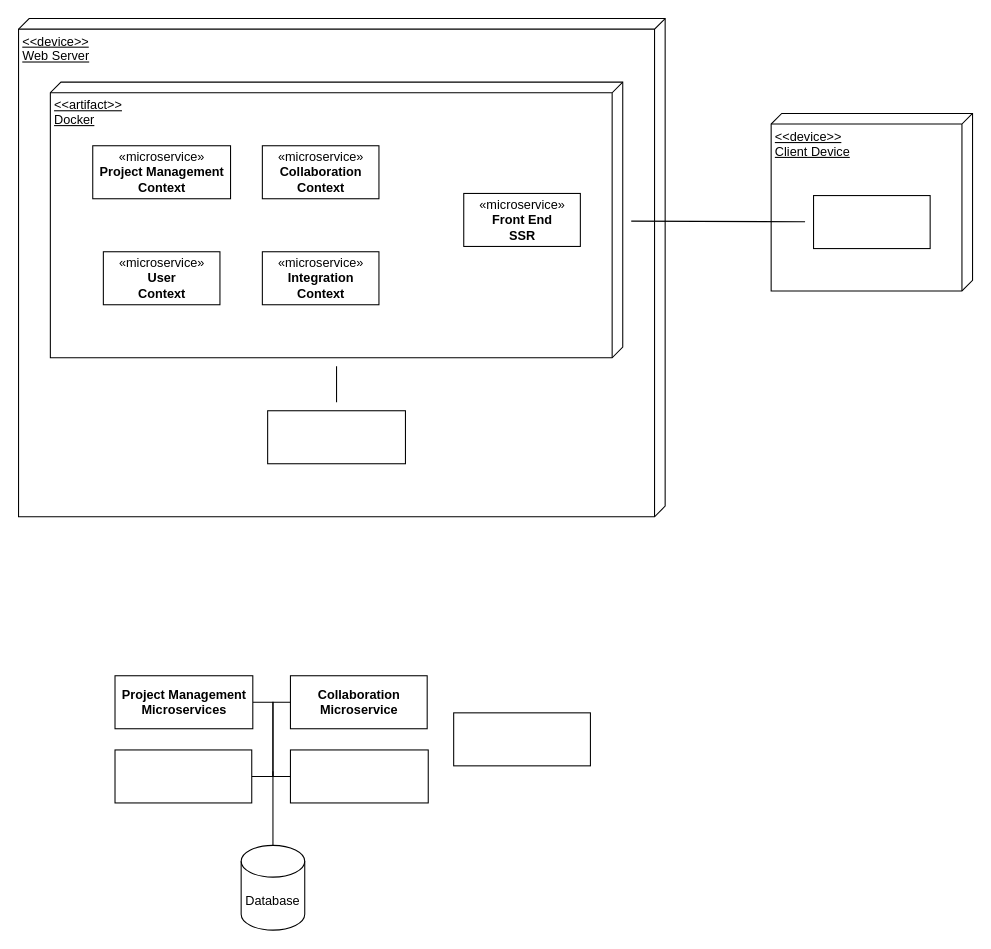
Some shapes in this 991 by 949 pixel diagram are drawn without their labels. The shapes that lost their labels are listed below. From the top down, each one's centre as x and y in pixels, then its label:
At (871,222): "«artifact» Browser".
At (336,437): "«artifact» DBMS SQL Server".
At (521,739): "Front End SSR Microservice".
At (183,776): "User & Auth Microservice".
At (358,776): "Integration Microservice".
